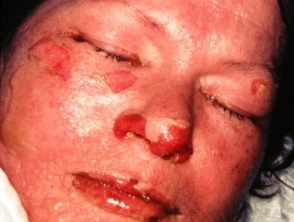SJS-TEN: (61, 153, 193, 222), (105, 98, 203, 168), (21, 26, 89, 94), (99, 66, 143, 99), (245, 75, 270, 99)
